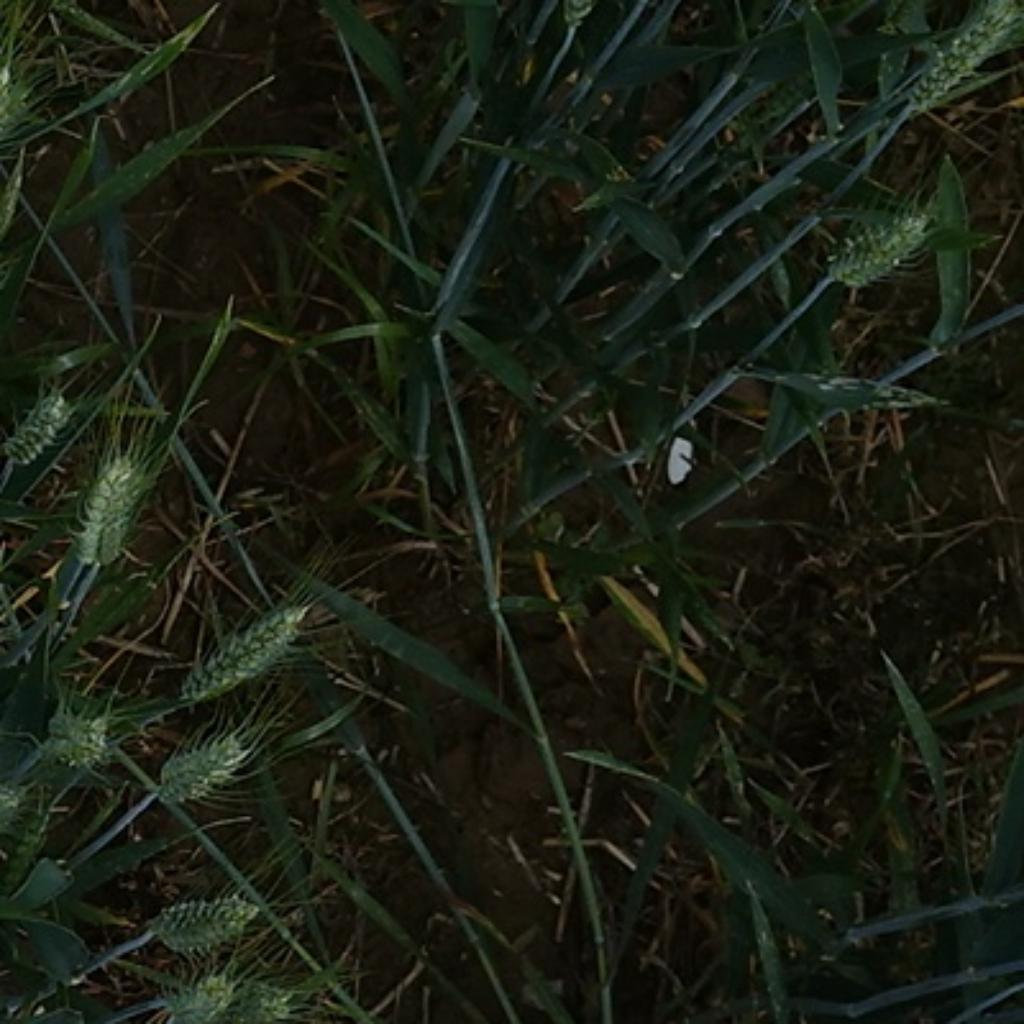0-0: (168, 581, 317, 706), (893, 2, 1016, 117), (823, 201, 943, 296), (66, 442, 156, 565), (153, 721, 256, 808), (143, 885, 268, 954), (0, 381, 87, 468), (24, 697, 116, 779), (146, 968, 246, 1024), (1, 808, 60, 900), (238, 969, 333, 1024), (1, 10, 34, 127), (0, 821, 2, 890)
